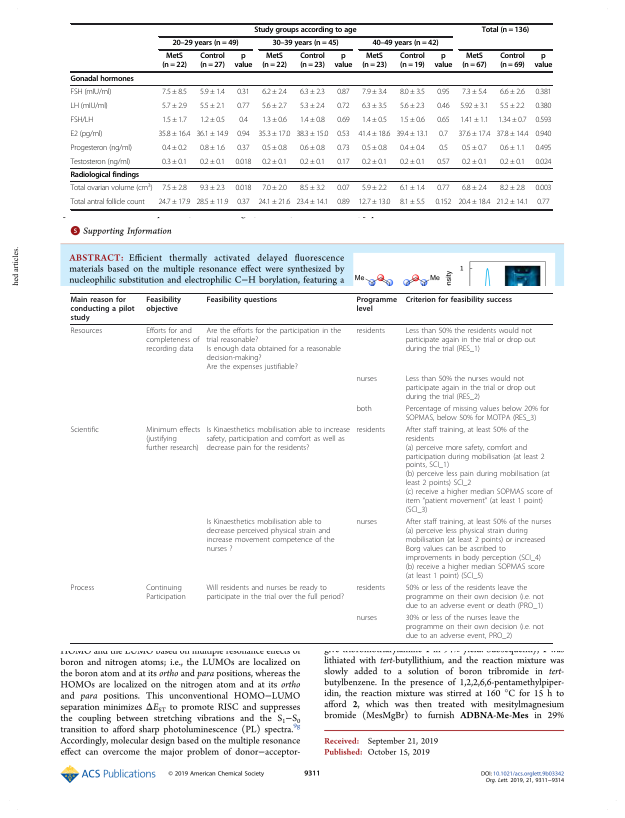borderless: (69, 291, 553, 643), (69, 22, 552, 209)
cell: (405, 425, 553, 515), (405, 517, 552, 581), (205, 326, 342, 371), (205, 517, 335, 554), (205, 425, 351, 452), (405, 583, 545, 611), (405, 613, 545, 641), (405, 326, 536, 354), (405, 374, 536, 401), (205, 583, 345, 602), (405, 404, 550, 422), (70, 295, 135, 322), (145, 326, 200, 354), (145, 425, 201, 452), (405, 295, 513, 304), (253, 26, 357, 35), (70, 182, 153, 193), (145, 583, 187, 602), (355, 295, 398, 313), (271, 39, 340, 49), (70, 198, 146, 207), (171, 39, 239, 49), (371, 39, 439, 49), (145, 295, 182, 313), (205, 295, 278, 304), (70, 74, 135, 84), (70, 143, 133, 153), (70, 171, 140, 180), (70, 157, 131, 167), (161, 52, 188, 71), (199, 52, 226, 71), (261, 52, 288, 71), (299, 52, 326, 71), (361, 52, 388, 71), (399, 52, 426, 71), (461, 52, 488, 71), (499, 52, 526, 71), (481, 26, 530, 35), (70, 87, 112, 97), (70, 101, 109, 111), (333, 52, 353, 71), (433, 52, 453, 71), (533, 52, 553, 71), (234, 52, 253, 71), (157, 129, 191, 139), (195, 129, 229, 139), (257, 129, 291, 139), (295, 129, 329, 139), (357, 129, 391, 139), (395, 129, 429, 139), (457, 129, 491, 139), (495, 129, 529, 139), (70, 326, 103, 336), (70, 129, 103, 139), (355, 326, 386, 336), (355, 583, 386, 593), (459, 115, 490, 125), (497, 115, 528, 125), (157, 198, 191, 207), (195, 198, 229, 207), (257, 198, 291, 207), (295, 198, 329, 207), (357, 198, 391, 207), (457, 198, 491, 207), (495, 198, 529, 207), (459, 101, 489, 111), (69, 425, 100, 434), (355, 425, 386, 434), (161, 87, 188, 97), (199, 87, 226, 97), (261, 87, 288, 97), (299, 87, 326, 97), (361, 87, 388, 97), (399, 87, 426, 97), (461, 87, 488, 97), (499, 87, 526, 97), (161, 101, 188, 111), (199, 101, 226, 111), (261, 101, 288, 111), (299, 101, 326, 111), (361, 101, 388, 111), (399, 101, 426, 111), (499, 101, 526, 111), (161, 115, 188, 125), (199, 115, 226, 125), (261, 115, 288, 125), (299, 115, 326, 125), (361, 115, 388, 125), (399, 115, 426, 125), (161, 143, 188, 153), (199, 143, 226, 153), (261, 143, 288, 153), (299, 143, 326, 153), (361, 143, 388, 153), (399, 143, 426, 153), (461, 143, 488, 153), (499, 143, 526, 153), (161, 157, 188, 167), (199, 157, 226, 167), (261, 157, 288, 167), (299, 157, 326, 167), (361, 157, 388, 167), (399, 157, 426, 167), (461, 157, 488, 167), (499, 157, 526, 167), (69, 583, 95, 593), (161, 184, 188, 193), (199, 184, 226, 193), (261, 184, 288, 193), (299, 184, 326, 193), (361, 184, 388, 193), (399, 184, 426, 193), (461, 184, 488, 193), (499, 184, 526, 193), (399, 198, 426, 207), (70, 115, 94, 125), (355, 517, 378, 527), (355, 613, 378, 623), (355, 374, 378, 383), (534, 87, 552, 97), (534, 101, 552, 111), (534, 115, 552, 125), (534, 129, 552, 139), (534, 143, 552, 153), (234, 157, 252, 167), (534, 157, 552, 167), (355, 404, 373, 413), (234, 184, 252, 193), (534, 184, 552, 193), (434, 198, 452, 207), (236, 87, 251, 97), (336, 87, 351, 97), (336, 115, 351, 125), (436, 115, 451, 125), (336, 129, 351, 139), (236, 143, 251, 153), (336, 143, 351, 153), (336, 157, 351, 167), (436, 87, 450, 97), (236, 101, 250, 111), (336, 101, 350, 111), (436, 101, 450, 111), (236, 129, 250, 139), (436, 157, 450, 167), (336, 184, 351, 193), (336, 198, 351, 207), (436, 184, 450, 193), (236, 198, 250, 207), (536, 198, 550, 207), (238, 115, 249, 125), (438, 129, 449, 139), (438, 143, 449, 153)
